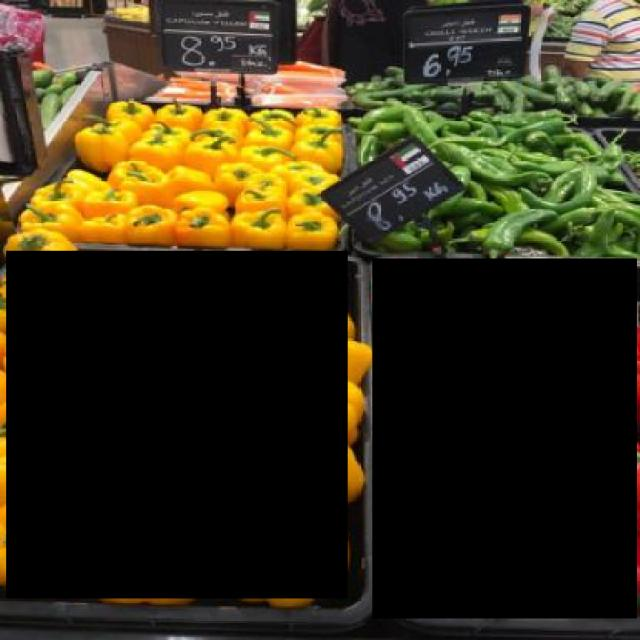Capsicum: (6, 252, 348, 599), (373, 259, 638, 618)
